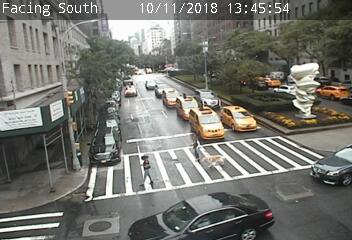car: (89, 128, 120, 165), (190, 107, 223, 140), (221, 106, 257, 133), (195, 89, 222, 111), (177, 96, 200, 120), (316, 85, 348, 100), (273, 84, 297, 98), (163, 90, 181, 107), (248, 80, 268, 91), (155, 83, 170, 97), (124, 85, 137, 97), (146, 80, 158, 90)
